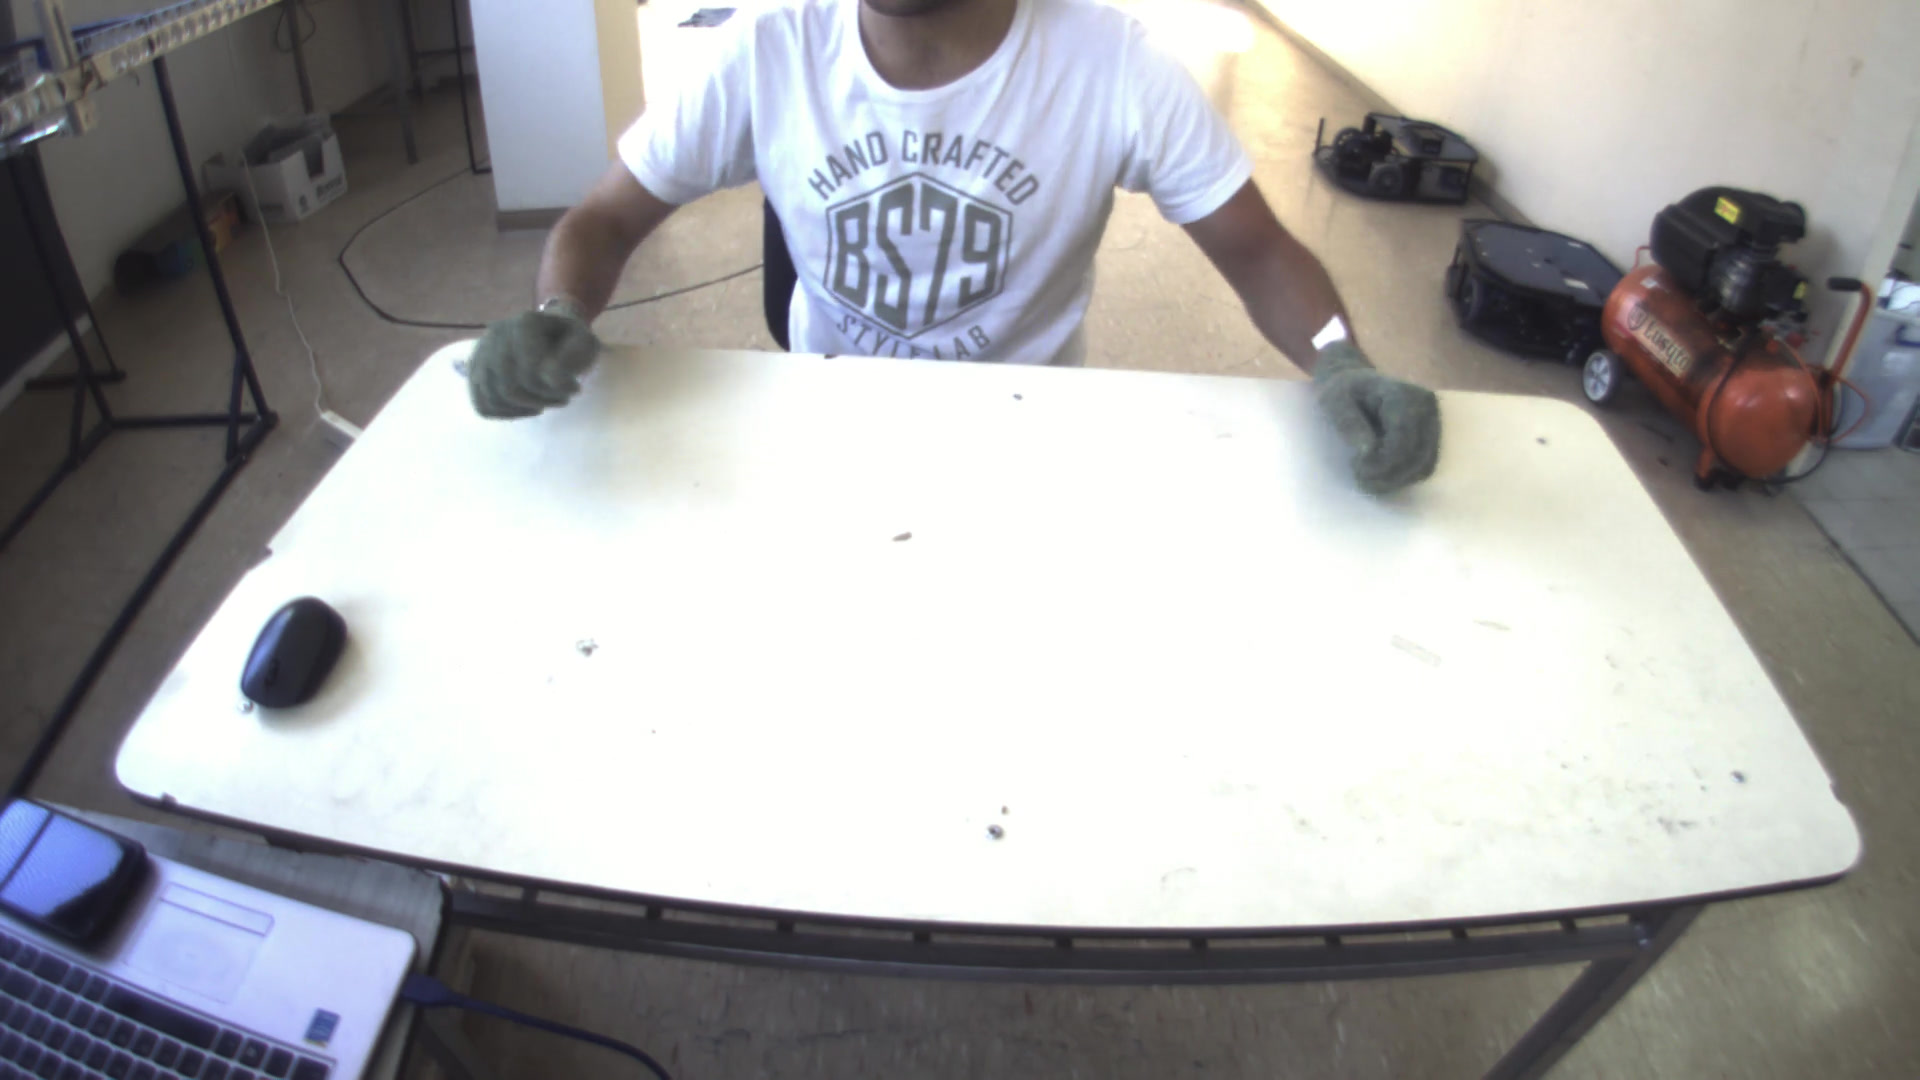hand: (1307, 351, 1458, 491), (447, 297, 603, 417)
